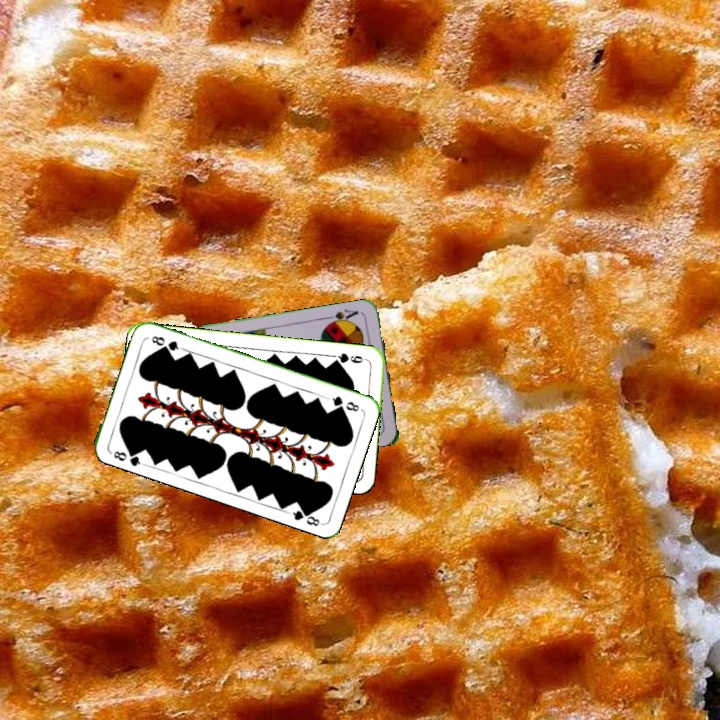G8: (106, 445, 146, 468), (324, 392, 362, 414)
G9: (329, 349, 370, 366)
SA: (322, 305, 361, 328)
